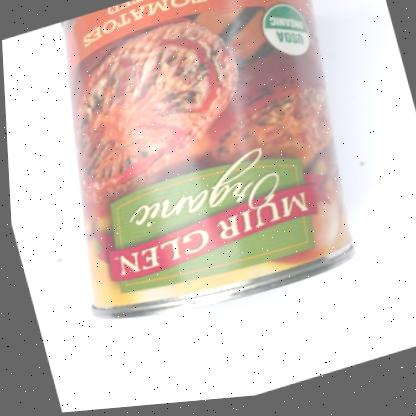Metal: (60, 0, 348, 319)
